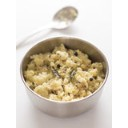venpongal: (31, 51, 98, 97)
